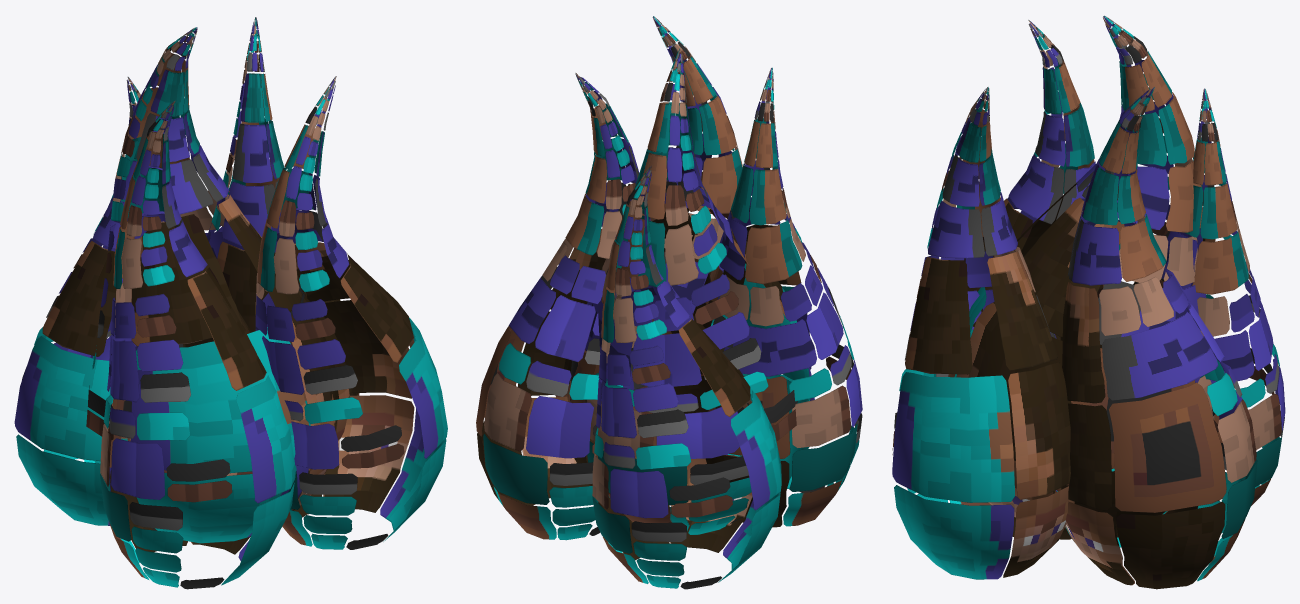
3 renders of one model, left to right at view 1: azimuth 30°, elevation 25°; view 2: azimuth 150°, elevation 25°; view 3: azimuth 270°, elevation 25°, orthographic. The views are drawn at different scales.
Parts seen in each view (by area): view 1: flame_NurbsPath.015; view 2: flame_NurbsPath.015; view 3: flame_NurbsPath.015.
Boxes of the visible parts, x1,y1,x2,y2 form: flame_NurbsPath.015: [14, 17, 447, 589]; flame_NurbsPath.015: [476, 16, 862, 589]; flame_NurbsPath.015: [892, 15, 1285, 589].
Bounding box in the file's own units: 0.7551 × 1.15 × 0.798.
